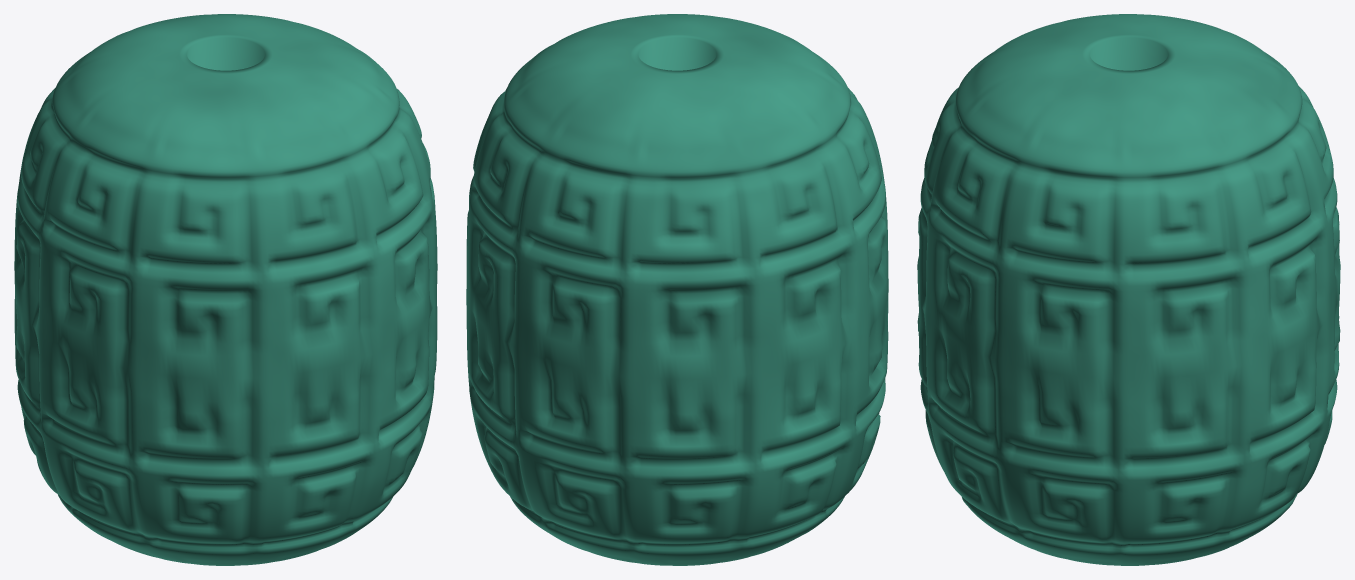
File: meander-drum.glb
The picture shows the model from 3 angles, left to right: view 1: azimuth 30°, elevation 25°; view 2: azimuth 150°, elevation 25°; view 3: azimuth 270°, elevation 25°; orthographic projection.
Parts seen in each view (by area): view 1: 回纹鼓珠; view 2: 回纹鼓珠; view 3: 回纹鼓珠.
Part boxes in pixels (box(x1,y1,x2,y2)): 回纹鼓珠: box(14, 14, 437, 565); 回纹鼓珠: box(466, 14, 888, 565); 回纹鼓珠: box(917, 14, 1340, 565).
Size of the model in its own units: 0.0065 by 0.00799 by 0.0065.
